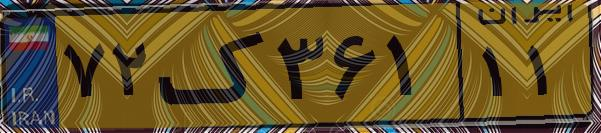1: (385, 28, 445, 110), (475, 38, 525, 113), (525, 38, 570, 115)
2: (110, 28, 158, 98)
3: (270, 28, 330, 110)
6: (330, 28, 385, 110)
7: (57, 26, 110, 100)
ک: (158, 12, 270, 120)
